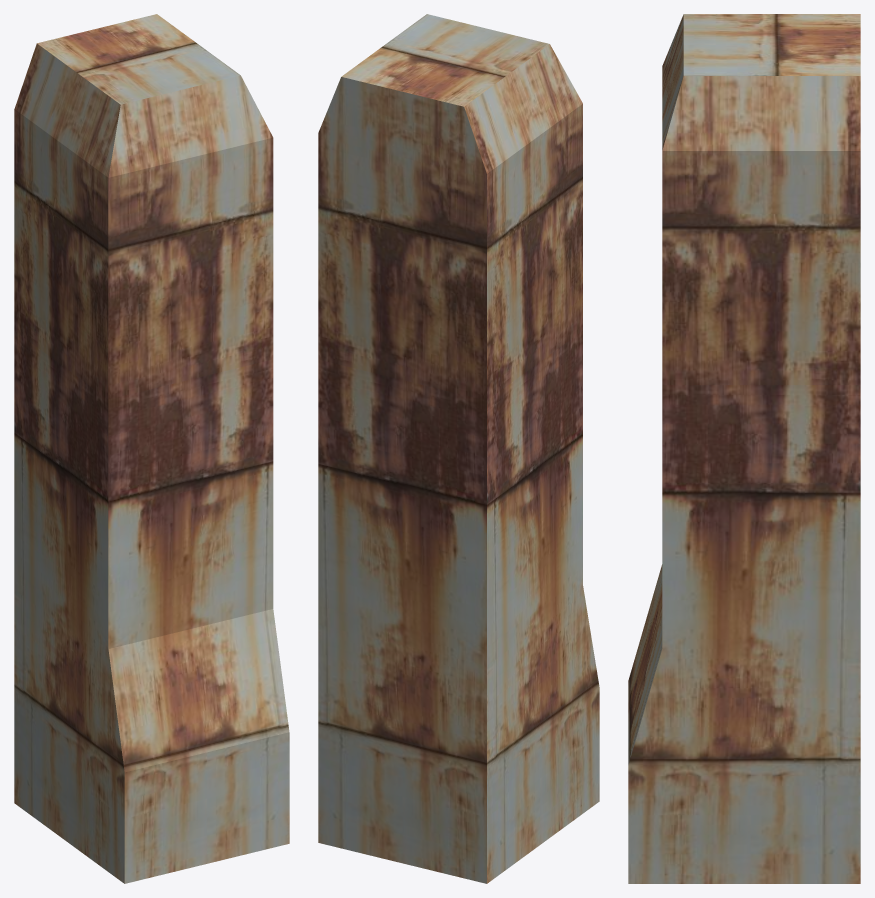
The model's file is Pillar.fbx.
3 renders of one model, left to right at view 1: azimuth 30°, elevation 25°; view 2: azimuth 150°, elevation 25°; view 3: azimuth 270°, elevation 25°, orthographic. The views are drawn at different scales.
Visible parts, largest first — view 1: Cube.056; view 2: Cube.056; view 3: Cube.056.
Boxes of the visible parts, bbox=[...] form: Cube.056: bbox=[14, 14, 289, 883]; Cube.056: bbox=[318, 14, 599, 883]; Cube.056: bbox=[628, 14, 860, 883].
Bounding box in the file's own units: 355 × 1552 × 411.
